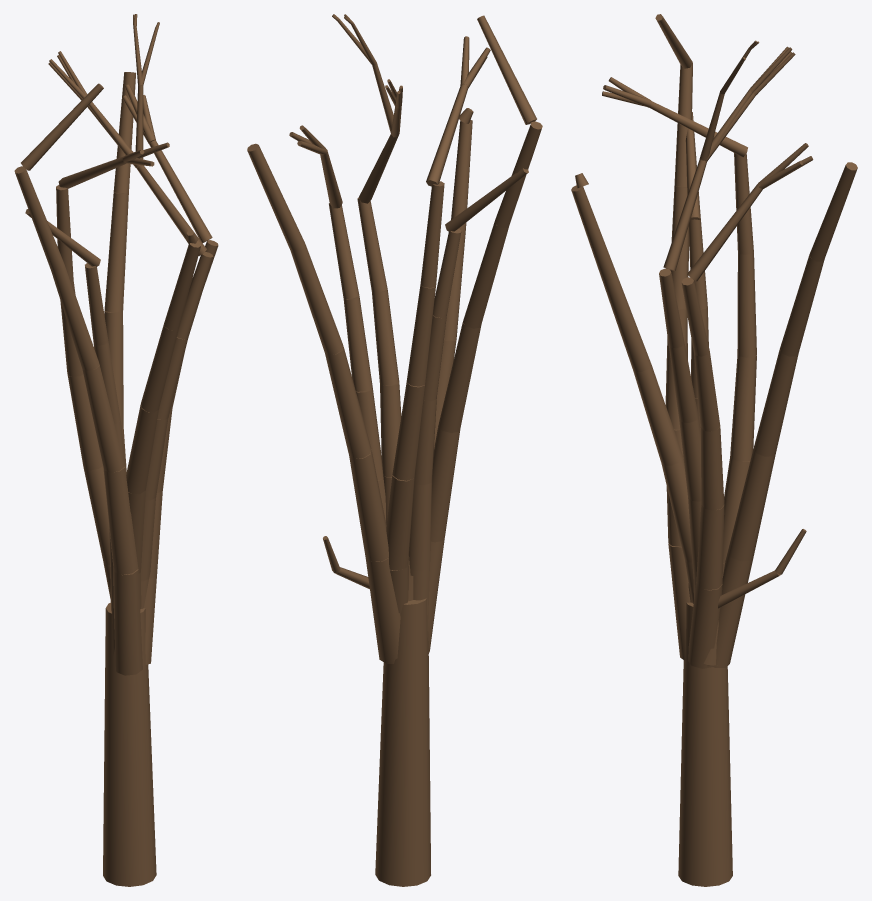
File: amanogawa-tel.glb
3 views of the same model, side by side, from view 1: azimuth 30°, elevation 25°; view 2: azimuth 150°, elevation 25°; view 3: azimuth 270°, elevation 25° (orthographic). The views are drawn at different scales.
Parts seen in each view (by area): view 1: torzs, ag-3-1, ag-3-2, ag-3-3, ag-6-4, ag-3-4, ag-2-3, ag-5-3, ag-2-4, ag-3-5, ag-5-2, ag-2-5 (+19 smaller); view 2: torzs, ag-6-2, ag-6-1, ag-6-3, ag-3-3, ag-3-2, ag-5-2, ag-6-4, ag-5-3, ag-3-4, ag-5-4, ag-4-2 (+23 smaller); view 3: torzs, ag-6-2, ag-5-3, ag-6-3, ag-2-3, ag-6-1, ag-7-2, ag-7-1, ag-5-4, ag-6-4, ag-2-4, ag-7-3 (+22 smaller).
Part boxes in pixels (<box>): torzs: <box>103,602,156,886</box>; ag-3-1: <box>113,568,142,675</box>; ag-3-2: <box>103,467,138,574</box>; ag-3-3: <box>82,365,124,472</box>; ag-6-4: <box>104,192,128,312</box>; ag-3-4: <box>51,265,99,370</box>; ag-2-3: <box>126,404,158,494</box>; ag-5-3: <box>67,373,102,470</box>; ag-2-4: <box>141,323,178,412</box>; ag-3-5: <box>14,166,64,271</box>; ag-5-2: <box>83,466,109,564</box>; ag-2-5: <box>164,241,200,330</box>; torzs: <box>375,598,430,886</box>; ag-6-2: <box>349,449,388,561</box>; ag-6-1: <box>365,558,400,663</box>; ag-6-3: <box>325,346,371,458</box>; ag-3-3: <box>438,323,481,432</box>; ag-3-2: <box>430,427,460,542</box>; ag-5-2: <box>386,475,414,570</box>; ag-6-4: <box>290,244,343,354</box>; ag-5-3: <box>392,382,425,480</box>; ag-3-4: <box>462,223,508,328</box>; ag-5-4: <box>406,285,435,386</box>; ag-4-2: <box>409,479,432,570</box>; torzs: <box>678,602,732,886</box>; ag-6-2: <box>727,449,775,561</box>; ag-5-3: <box>730,354,756,461</box>; ag-6-3: <box>753,349,798,456</box>; ag-2-3: <box>633,365,683,465</box>; ag-6-1: <box>712,553,753,667</box>; ag-7-2: <box>696,505,724,590</box>; ag-7-1: <box>688,583,722,668</box>; ag-5-4: <box>737,252,756,357</box>; ag-6-4: <box>780,255,824,356</box>; ag-2-4: <box>602,275,651,372</box>; ag-7-3: <box>700,426,724,510</box>.
Bounding box in the file's own units: 1.66 × 6.54 × 2.
